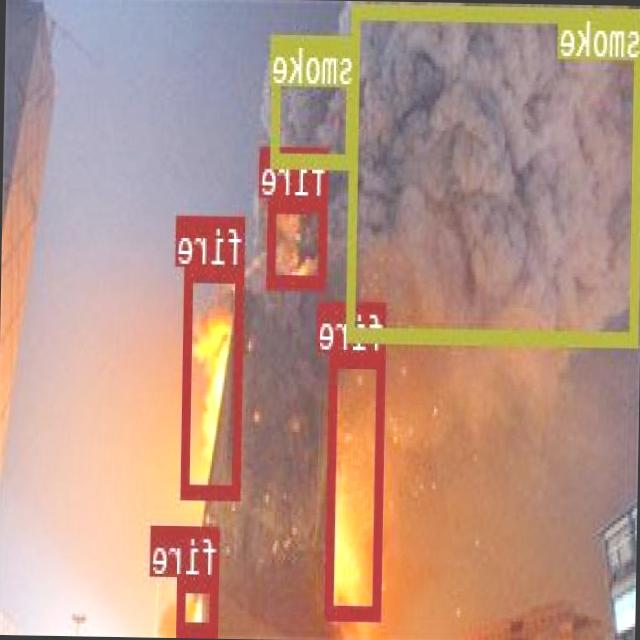fire: (326, 349, 386, 616), (182, 265, 245, 496), (268, 196, 328, 286), (179, 574, 220, 632)
smoke: (347, 1, 640, 342), (272, 32, 358, 166)
